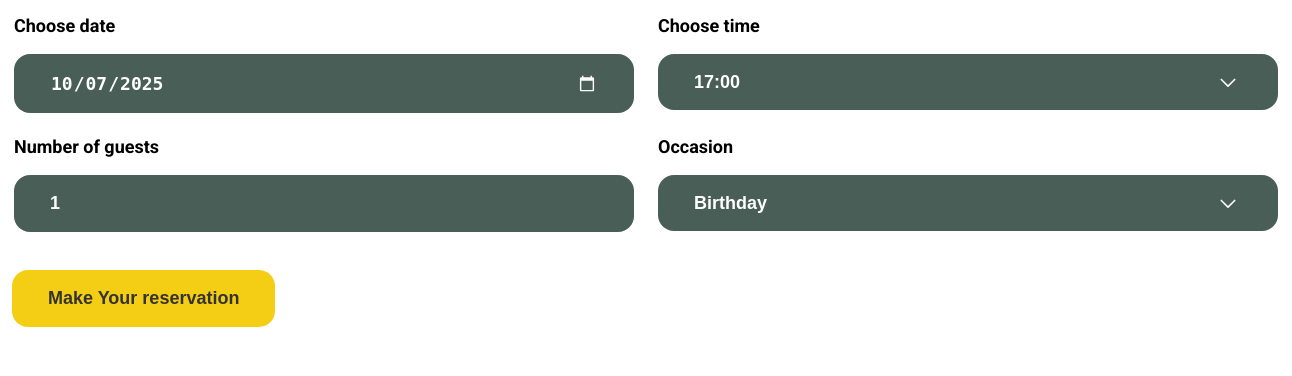
Test: BookingForm › Submit button is disabled if number of guests is less than 1
The image size is (1292, 376).
Type "0" into the number field labelled "Number of guests". click: (324, 204)
box: [14,175,634,232]
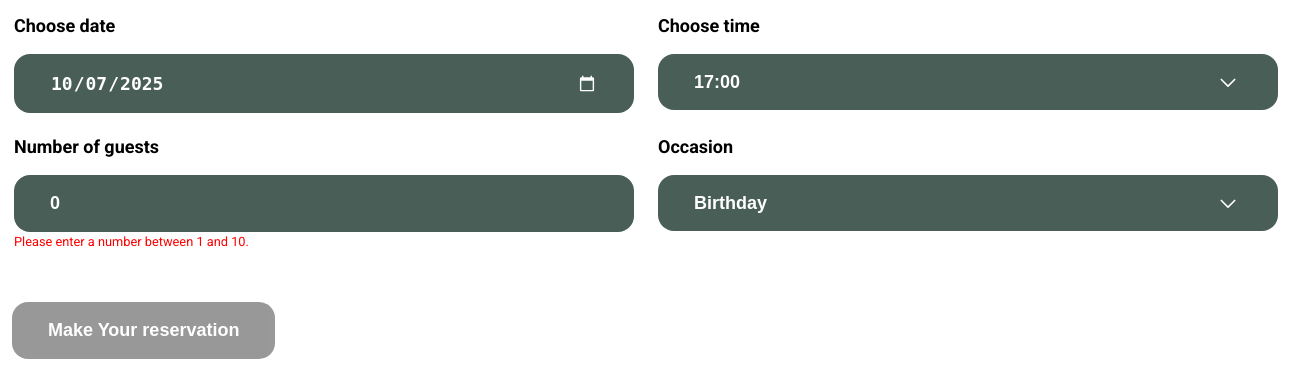
expect the button with aria-label "on click" is disabled: met, box [12,302,275,359]
